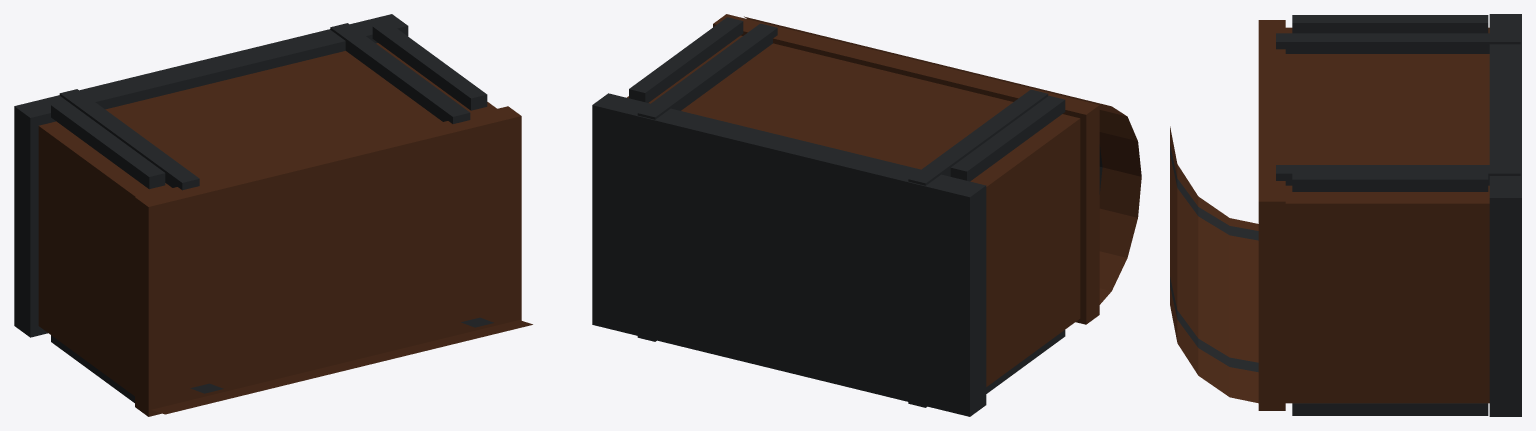
The picture shows the model from 3 angles, left to right: view 1: azimuth 30°, elevation 25°; view 2: azimuth 150°, elevation 25°; view 3: azimuth 270°, elevation 25°; orthographic projection.
Size of the model in its own units: 1.62 by 1.02 by 1.31.
